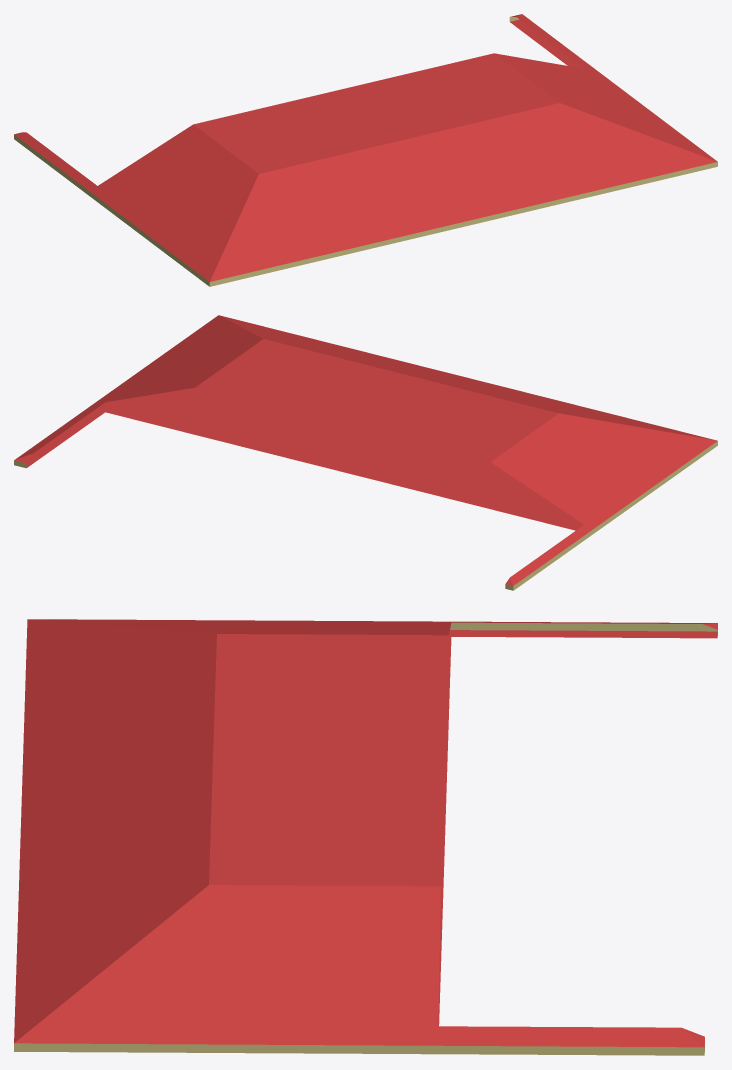
3 views of the same model, one above another, from view 1: azimuth 30°, elevation 25°; view 2: azimuth 150°, elevation 25°; view 3: azimuth 270°, elevation 25° (orthographic). The views are drawn at different scales.
Bounding box in the file's own units: 10.85 × 7.54 × 0.962.
